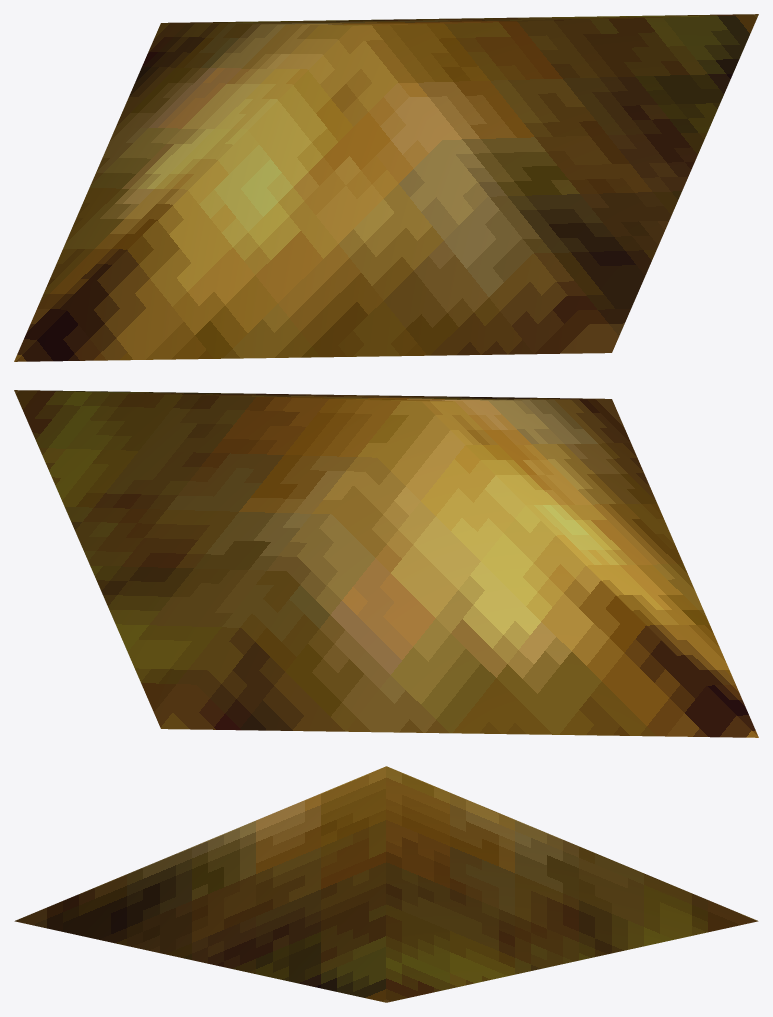
Rendered from frst_fngi_mushroom_redyellow_sm_l2.fbx.
The picture shows the model from 3 angles, top to bottom: view 1: azimuth 30°, elevation 25°; view 2: azimuth 150°, elevation 25°; view 3: azimuth 270°, elevation 25°; orthographic projection. The views are drawn at different scales.
Visible parts, largest first — view 1: mesh_node; view 2: mesh_node; view 3: mesh_node.
Part boxes in pixels (<box>): mesh_node: <box>14,14,758,361</box>; mesh_node: <box>14,390,758,737</box>; mesh_node: <box>14,766,758,1002</box>.
Bounding box in the file's own units: 0.2265 × 0.0737 × 0.2375.
1 material, 1 textured.
